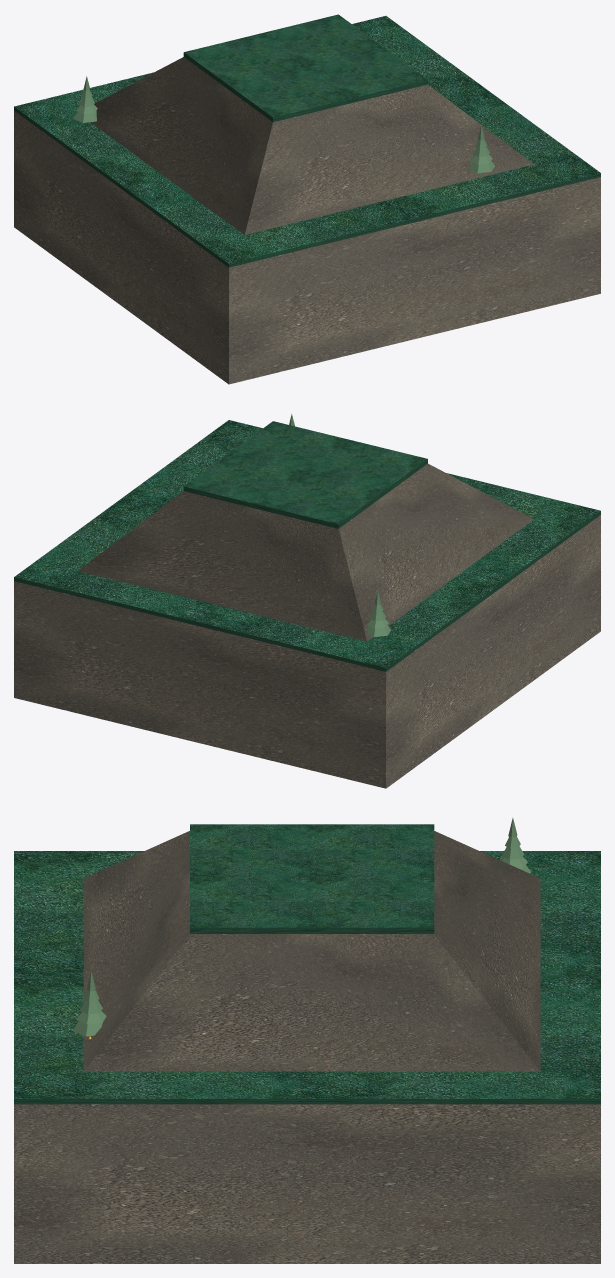
The model's file is plato.obj.
3 renders of one model, top to bottom at view 1: azimuth 30°, elevation 25°; view 2: azimuth 150°, elevation 25°; view 3: azimuth 270°, elevation 25°, orthographic. The views are drawn at different scales.
Parts seen in each view (by area): view 1: 003_Box, 002_Box_1, 000_Box_3, 001_Box_2, 018_Tree, 016_Tree; view 2: 003_Box, 002_Box_1, 000_Box_3, 001_Box_2, 016_Tree; view 3: 003_Box, 002_Box_1, 000_Box_3, 001_Box_2, 018_Tree, 016_Tree.
Boxes of the visible parts, x1,y1,x2,y2 form: 003_Box: (14,110,600,384); 002_Box_1: (90,57,533,234); 000_Box_3: (14,16,600,267); 001_Box_2: (183,14,427,122); 018_Tree: (468,125,494,173); 016_Tree: (73,76,97,122); 003_Box: (14,515,600,788); 002_Box_1: (78,463,533,641); 000_Box_3: (14,420,600,671); 001_Box_2: (183,421,427,528); 016_Tree: (367,590,390,636); 003_Box: (14,1104,600,1263); 002_Box_1: (83,831,540,1071); 000_Box_3: (14,851,600,1104); 001_Box_2: (190,824,434,933); 018_Tree: (72,971,106,1036); 016_Tree: (501,817,530,873).
Bounding box in the file's own units: 100 × 49.61 × 100.
